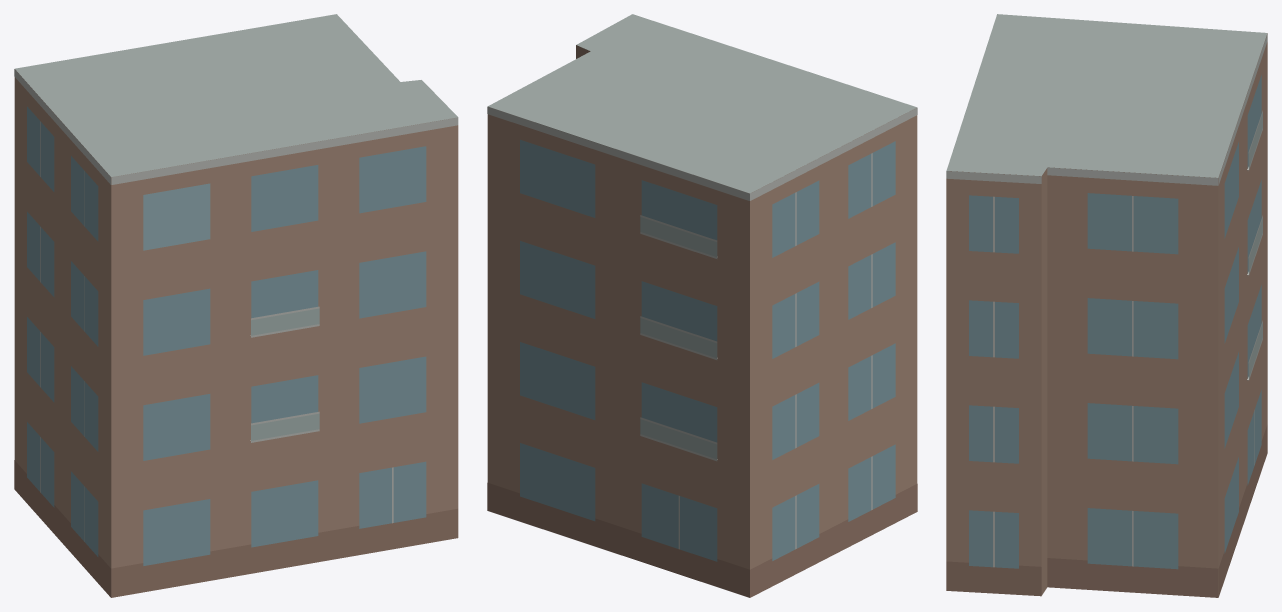
File: survey-upis-32630195.glb
3 renders of one model, left to right at view 1: azimuth 30°, elevation 25°; view 2: azimuth 150°, elevation 25°; view 3: azimuth 270°, elevation 25°, orthographic. The views are drawn at different scales.
Visible parts, largest first — view 1: survey-upis-32630195.tmp; view 2: survey-upis-32630195.tmp; view 3: survey-upis-32630195.tmp.
Boxes of the visible parts, <box> form: survey-upis-32630195.tmp: <box>14,14,458,597</box>; survey-upis-32630195.tmp: <box>487,14,917,597</box>; survey-upis-32630195.tmp: <box>946,14,1267,597</box>.
Size of the model in its own units: 10.81 by 12.9 by 8.95.
